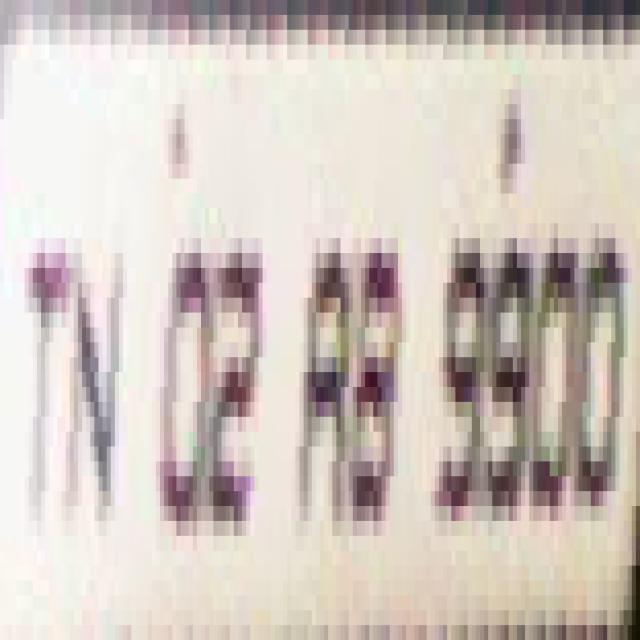license_plate: (33, 45, 640, 625)
